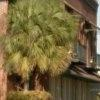Tree: (5, 0, 86, 73)
